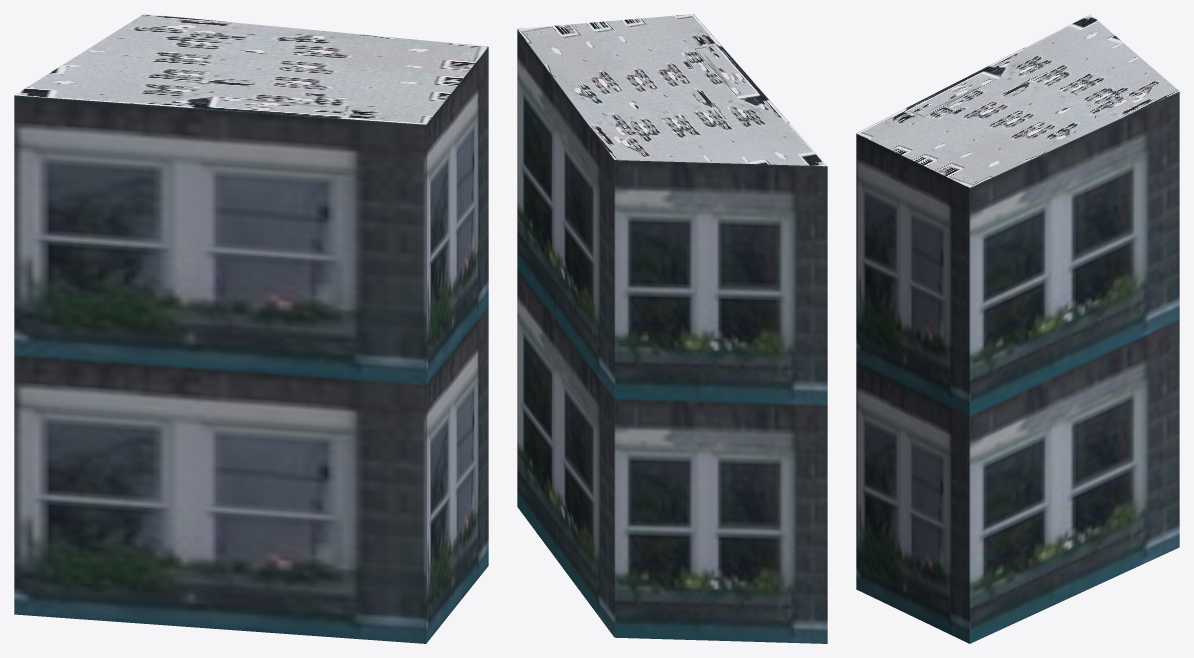
File: ResTex__5124.fbx
3 views of the same model, side by side, from view 1: azimuth 30°, elevation 25°; view 2: azimuth 150°, elevation 25°; view 3: azimuth 270°, elevation 25° (orthographic). The views are drawn at different scales.
Visible parts, largest first — view 1: CityEngineMaterial_11_m, CityEngineMaterial_4_m; view 2: CityEngineMaterial_11_m, CityEngineMaterial_4_m; view 3: CityEngineMaterial_11_m, CityEngineMaterial_4_m.
Boxes of the visible parts, left/top/right/bottom form: CityEngineMaterial_11_m: left=14, top=47, right=488, bottom=643; CityEngineMaterial_4_m: left=15, top=14, right=488, bottom=124; CityEngineMaterial_11_m: left=517, top=29, right=827, bottom=643; CityEngineMaterial_4_m: left=517, top=14, right=827, bottom=166; CityEngineMaterial_11_m: left=856, top=91, right=1179, bottom=643; CityEngineMaterial_4_m: left=856, top=14, right=1179, bottom=187.
Bounding box in the file's own units: 4.91 × 6 × 3.86.
Materials: 2 (2 with a texture image).
